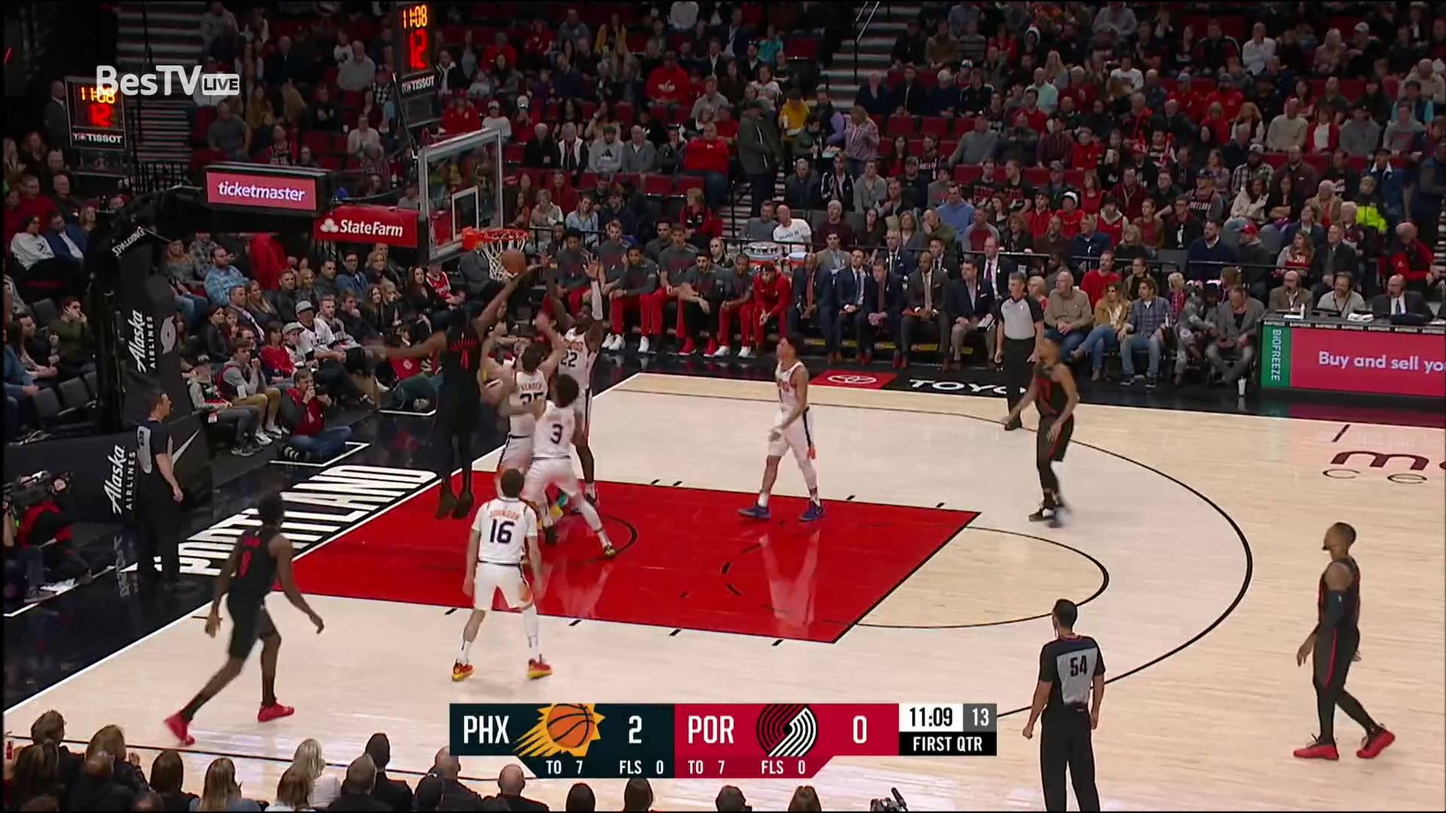basketball: (502, 248, 526, 271)
